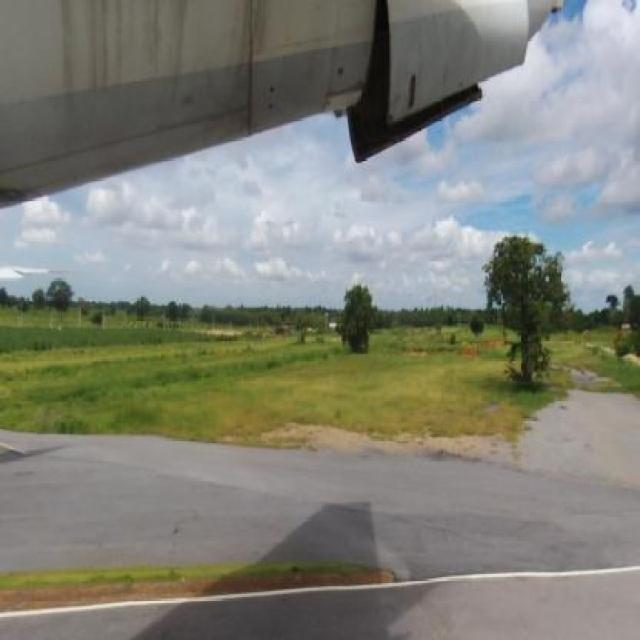Rust: (41, 0, 205, 117), (220, 0, 282, 112), (390, 18, 453, 112), (299, 2, 350, 106)
